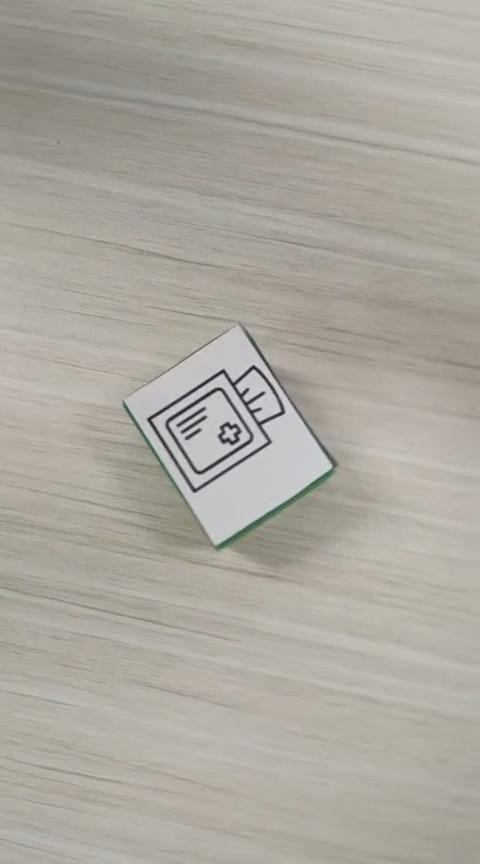Gauze: (121, 320, 337, 550)
